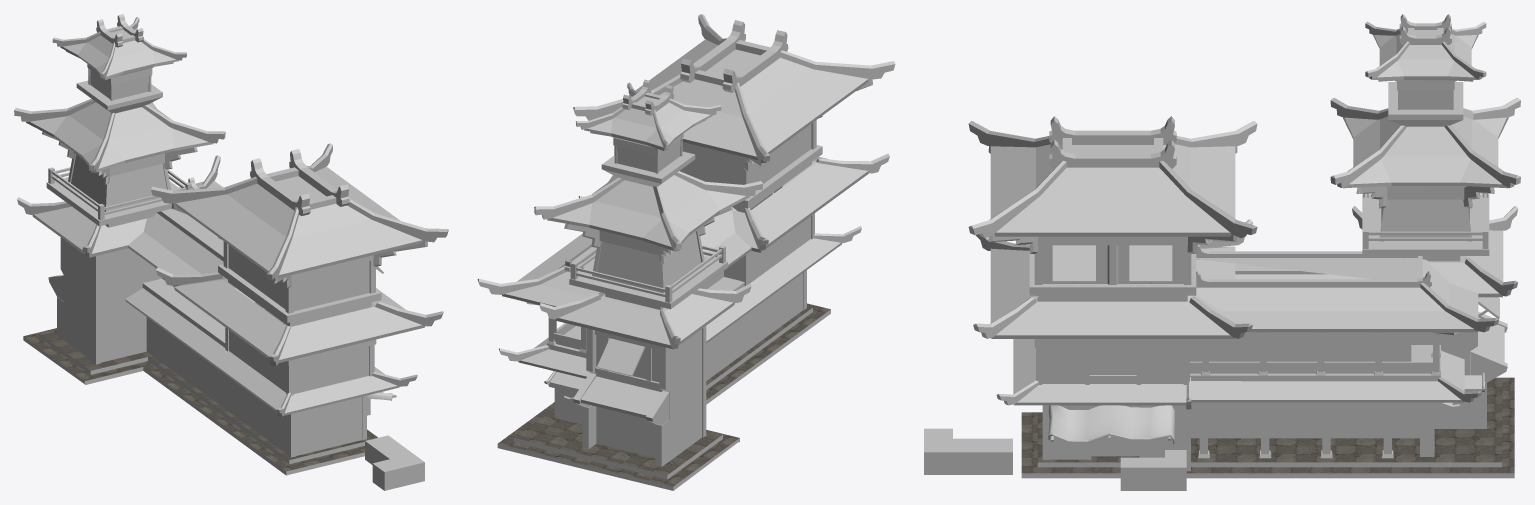
3 views of the same model, side by side, from view 1: azimuth 30°, elevation 25°; view 2: azimuth 150°, elevation 25°; view 3: azimuth 270°, elevation 25° (orthographic). The views are drawn at different scales.
Parts seen in each view (by area): view 1: T_s7_3d_jz_shangpu_01, T_s7_3d_jz_shangpu_09; view 2: T_s7_3d_jz_shangpu_01, T_s7_3d_jz_shangpu_09; view 3: T_s7_3d_jz_shangpu_01, T_s7_3d_jz_shangpu_09.
Boxes of the visible parts, x1,y1,x2,y2 form: T_s7_3d_jz_shangpu_01: (14,14,448,490); T_s7_3d_jz_shangpu_09: (23,328,377,471); T_s7_3d_jz_shangpu_01: (477,14,895,490); T_s7_3d_jz_shangpu_09: (498,303,830,486); T_s7_3d_jz_shangpu_01: (924,14,1520,490); T_s7_3d_jz_shangpu_09: (1021,377,1514,473).
Bounding box in the file's own units: 375 × 561 × 765.
